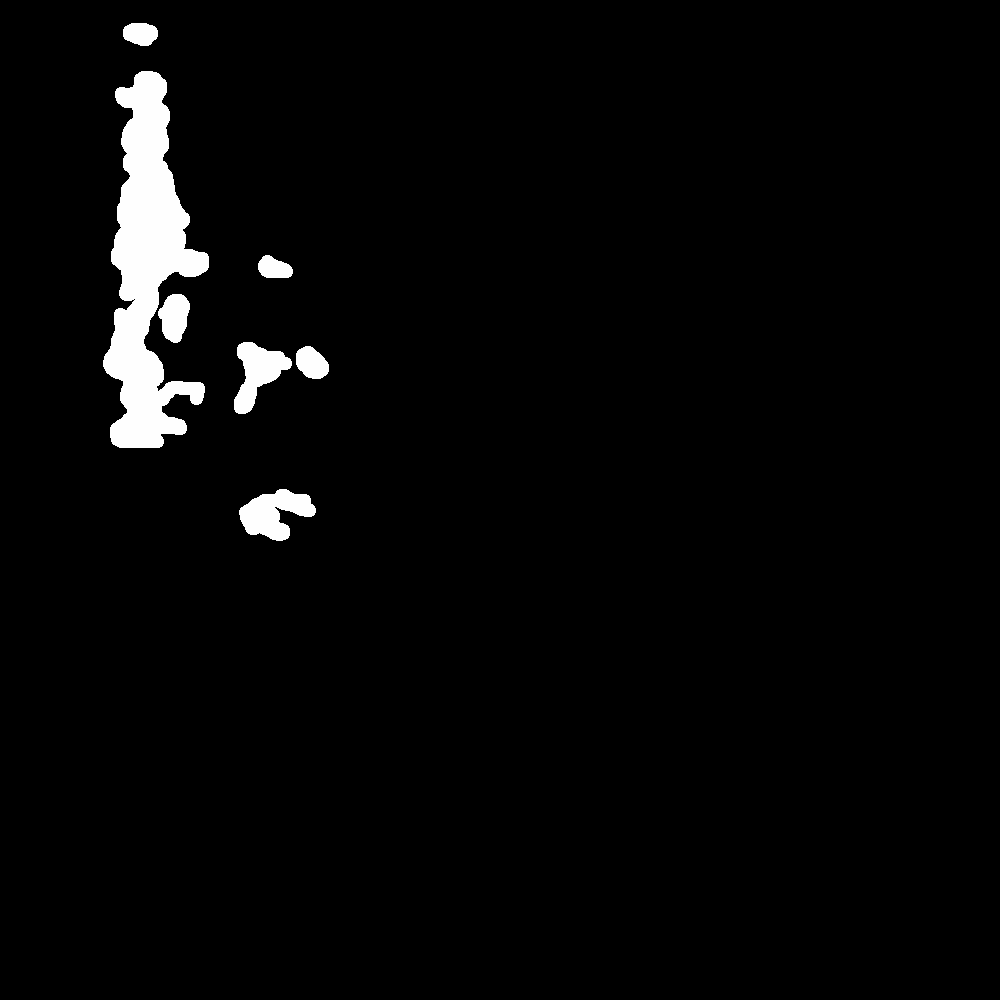illegal: (104, 19, 209, 452), (236, 340, 329, 418), (233, 484, 328, 542), (265, 255, 304, 284)
